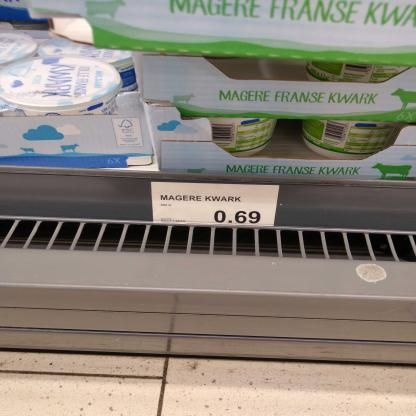prtg: (152, 183, 280, 227)
